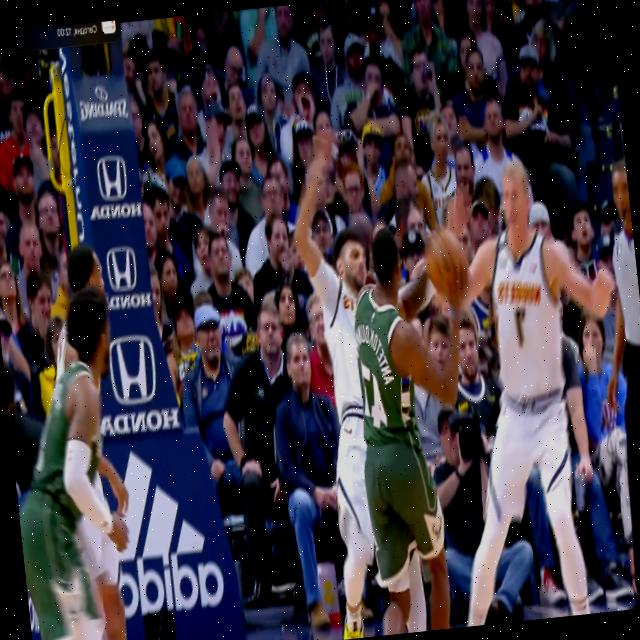Foul: (283, 187, 488, 640)
